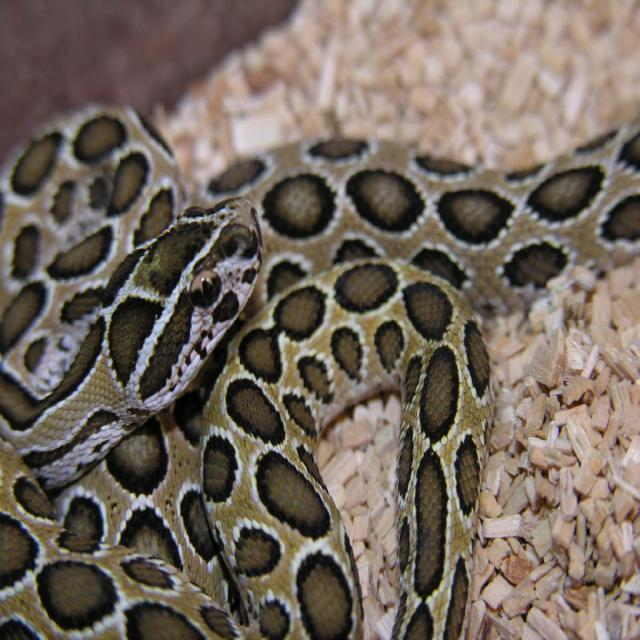Snake: (0, 101, 638, 639)
